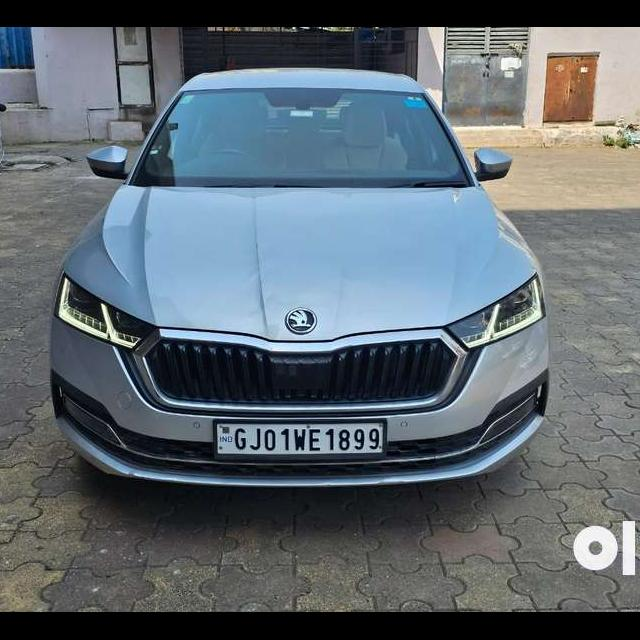Indian_Number_Plate: (215, 421, 386, 457)
